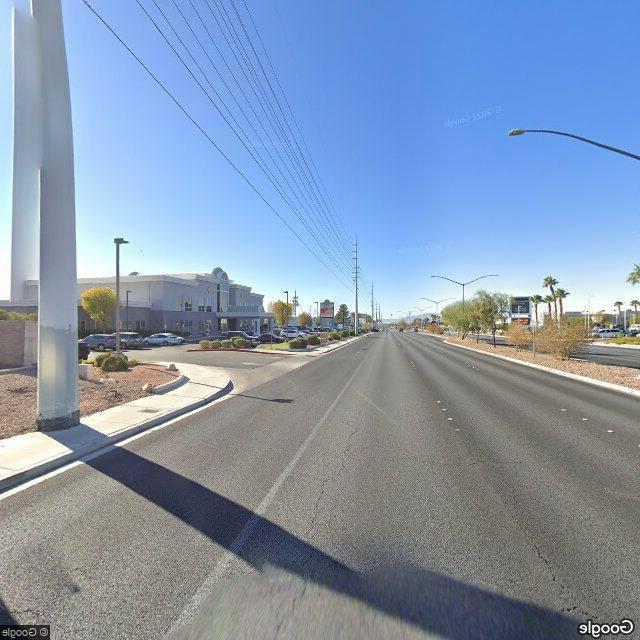pothole: (506, 491, 576, 599), (303, 421, 360, 541)
